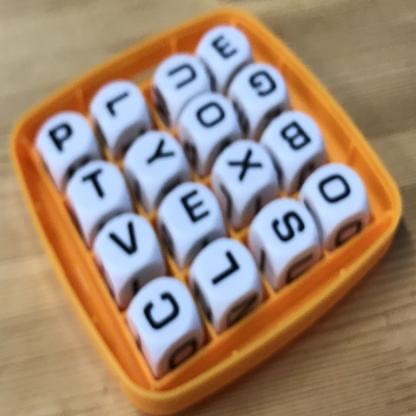b: (271, 114, 321, 157)
c: (136, 281, 190, 339)
e: (167, 183, 221, 231), (196, 22, 251, 65)
g: (241, 66, 291, 102)
l: (199, 240, 255, 298), (95, 83, 148, 135)
o: (312, 167, 364, 218), (185, 93, 237, 144)
p: (37, 114, 93, 162)
s: (262, 200, 317, 254)
t: (67, 166, 124, 215)
u: (155, 57, 206, 102)
v: (97, 214, 160, 267)
x: (224, 143, 270, 189)
y: (129, 134, 184, 173)
